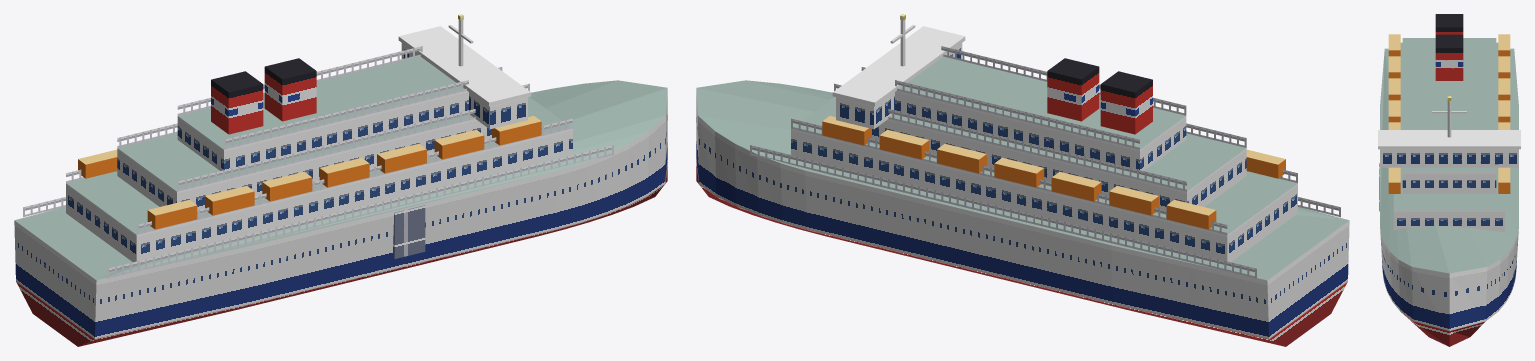
The model's file is ferry.obj.
The picture shows the model from 3 angles, left to right: view 1: azimuth 30°, elevation 25°; view 2: azimuth 150°, elevation 25°; view 3: azimuth 270°, elevation 25°; orthographic projection. The views are drawn at different scales.
Size of the model in its own units: 320 by 108 by 82.
